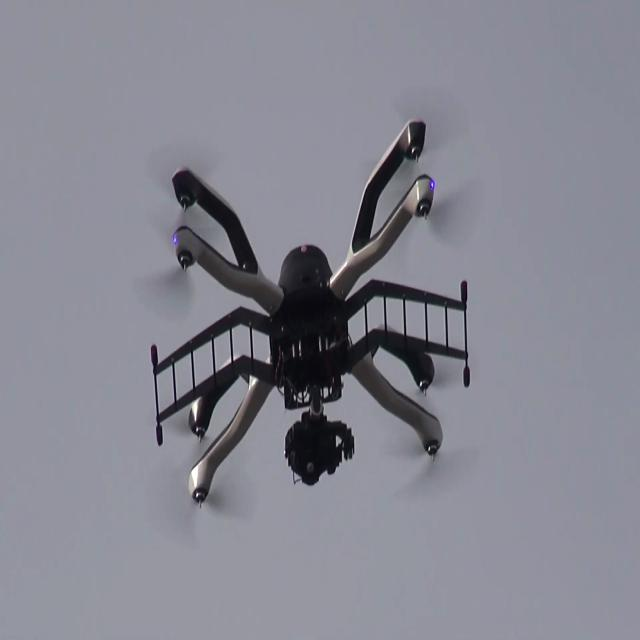drone: (137, 93, 474, 549)
